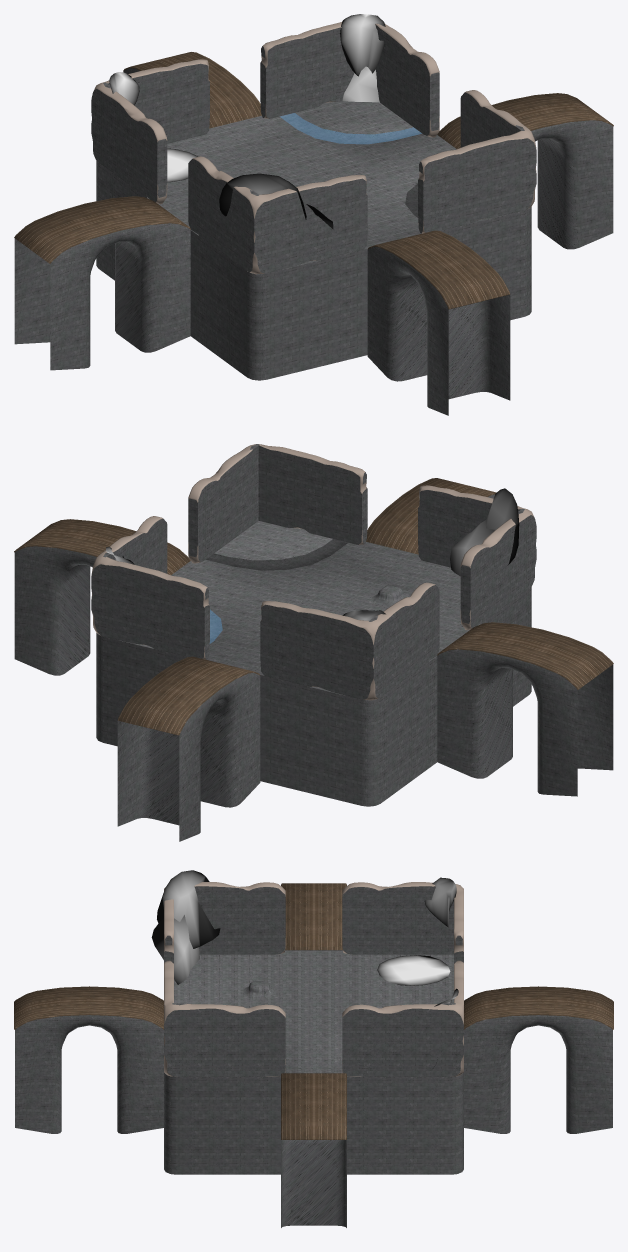
File: AdrienTestMesh.fbx
The picture shows the model from 3 angles, top to bottom: view 1: azimuth 30°, elevation 25°; view 2: azimuth 150°, elevation 25°; view 3: azimuth 270°, elevation 25°; orthographic projection. The views are drawn at different scales.
Parts seen in each view (by area): view 1: Cube.011_dmg, Ground, Bridge_A, Bridge_A.003, Bridge_A.002, Bridge_A.001, Plane.007, Plane.005, Plane.003, Plane.008, Plane.001, Plane.002; view 2: Cube.011_dmg, Ground, Bridge_A, Bridge_A.001, Bridge_A.002, Bridge_A.003, Plane.006, Plane.003, Plane.004; view 3: Ground, Cube.011_dmg, Bridge_A.001, Bridge_A.003, Bridge_A.002, Bridge_A, Plane.003, Plane.001, Plane.004, Plane.002, Cube.003.
Boxes of the visible parts, x1,y1,x2,y2 form: Cube.011_dmg: (91, 22, 536, 274); Ground: (96, 101, 531, 380); Bridge_A: (14, 196, 190, 370); Bridge_A.003: (367, 230, 510, 415); Bridge_A.002: (437, 93, 613, 249); Bridge_A.001: (123, 52, 261, 128); Plane.007: (340, 14, 385, 76); Plane.005: (280, 113, 421, 143); Plane.003: (219, 173, 306, 219); Plane.008: (342, 66, 379, 102); Plane.001: (167, 148, 197, 182); Plane.002: (109, 72, 139, 105); Cube.011_dmg: (91, 444, 536, 700); Ground: (96, 521, 531, 806); Bridge_A: (437, 622, 613, 796); Bridge_A.001: (117, 656, 260, 841); Bridge_A.002: (14, 519, 190, 675); Bridge_A.003: (366, 478, 496, 554); Plane.006: (206, 539, 347, 570); Plane.003: (486, 488, 519, 565); Plane.004: (450, 519, 494, 576); Ground: (164, 950, 463, 1174); Cube.011_dmg: (164, 882, 463, 1076); Bridge_A.001: (464, 986, 613, 1133); Bridge_A.003: (14, 986, 163, 1133); Bridge_A.002: (281, 1073, 346, 1227); Bridge_A: (281, 883, 346, 950); Plane.003: (157, 870, 220, 948); Plane.001: (377, 955, 450, 985); Plane.004: (151, 915, 199, 984); Plane.002: (424, 877, 456, 927); Cube.003: (243, 981, 275, 999).
Bounding box in the file's own units: 6002 × 2116 × 6002.
Materials: 6 (2 with a texture image).
